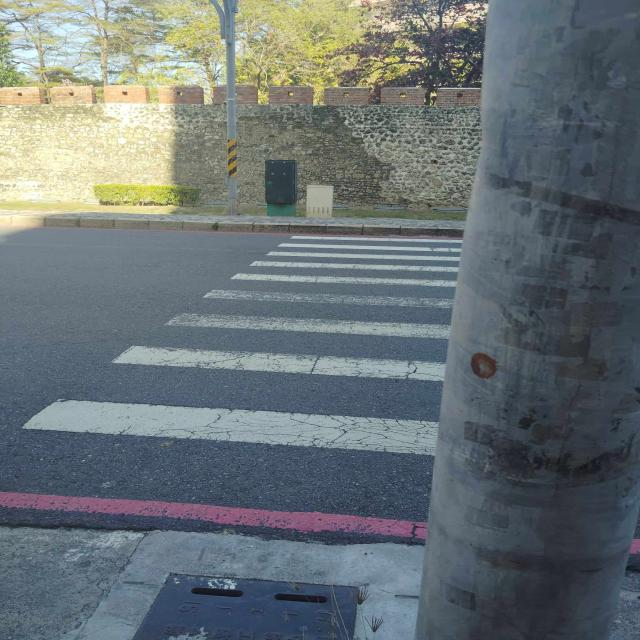zebra crossing: (36, 239, 467, 456)
